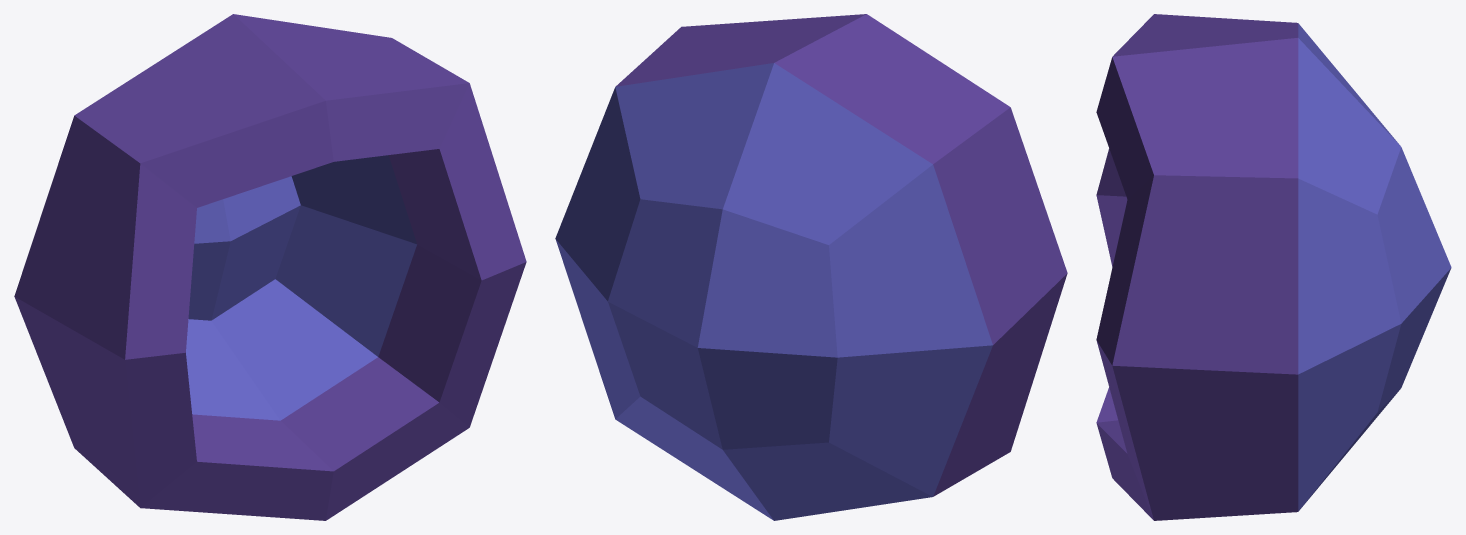
Rendered from cupl.glb.
3 views of the same model, side by side, from view 1: azimuth 30°, elevation 25°; view 2: azimuth 150°, elevation 25°; view 3: azimuth 270°, elevation 25° (orthographic).
Parts seen in each view (by area): view 1: Cube; view 2: Cube; view 3: Cube.
Boxes of the visible parts, <box> form: Cube: <box>14,14,526,520</box>; Cube: <box>555,14,1067,520</box>; Cube: <box>1096,14,1451,520</box>.
Size of the model in its own units: 2.32 by 2.32 by 1.63.
1 material, 1 textured.
